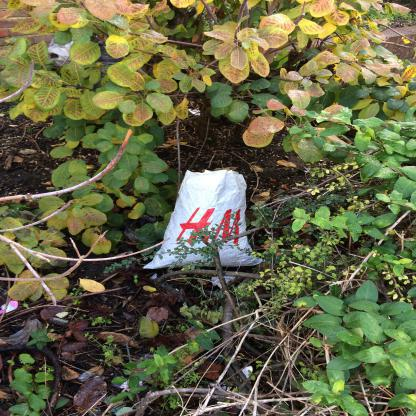plastik: (144, 169, 268, 270)
